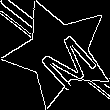M_NW: (24, 19, 93, 87)
